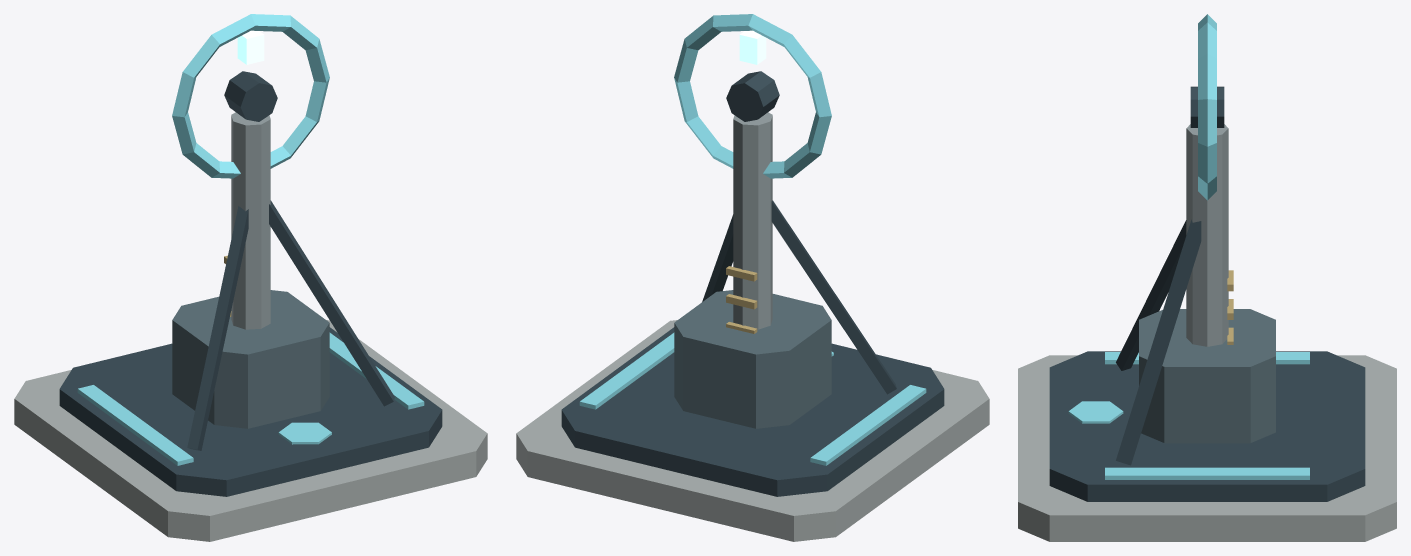
Rendered from relay-low.glb.
The picture shows the model from 3 angles, left to right: view 1: azimuth 30°, elevation 25°; view 2: azimuth 150°, elevation 25°; view 3: azimuth 270°, elevation 25°; orthographic projection. The views are drawn at different scales.
Visible parts, largest first — view 1: asset_relay__FP_Baked, asset_relay__FP_Team, Hexagon, signal; view 2: asset_relay__FP_Baked, asset_relay__FP_Team, signal; view 3: asset_relay__FP_Baked, asset_relay__FP_Team, Hexagon.
Boxes of the visible parts, box(x1,y1,x2,y2) form: asset_relay__FP_Baked: box(14, 71, 487, 541); asset_relay__FP_Team: box(77, 14, 424, 465); Hexagon: box(278, 422, 331, 444); signal: box(237, 30, 264, 64); asset_relay__FP_Baked: box(516, 71, 989, 541); asset_relay__FP_Team: box(579, 14, 926, 465); signal: box(739, 30, 766, 64); asset_relay__FP_Baked: box(1018, 86, 1396, 541); asset_relay__FP_Team: box(1105, 14, 1309, 479); Hexagon: box(1068, 401, 1123, 423).
Bounding box in the file's own units: 1.8 × 2.31 × 1.8.
